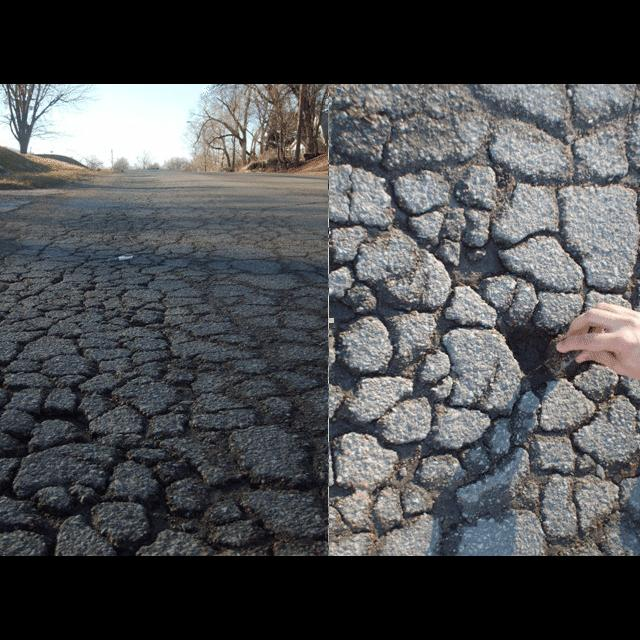retak_kulit_buaya: (0, 175, 317, 555), (338, 162, 511, 513)
